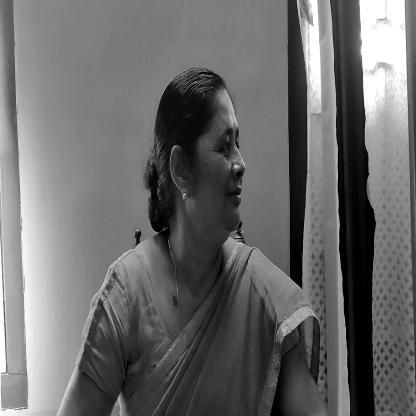Distracted: (145, 66, 246, 251)
